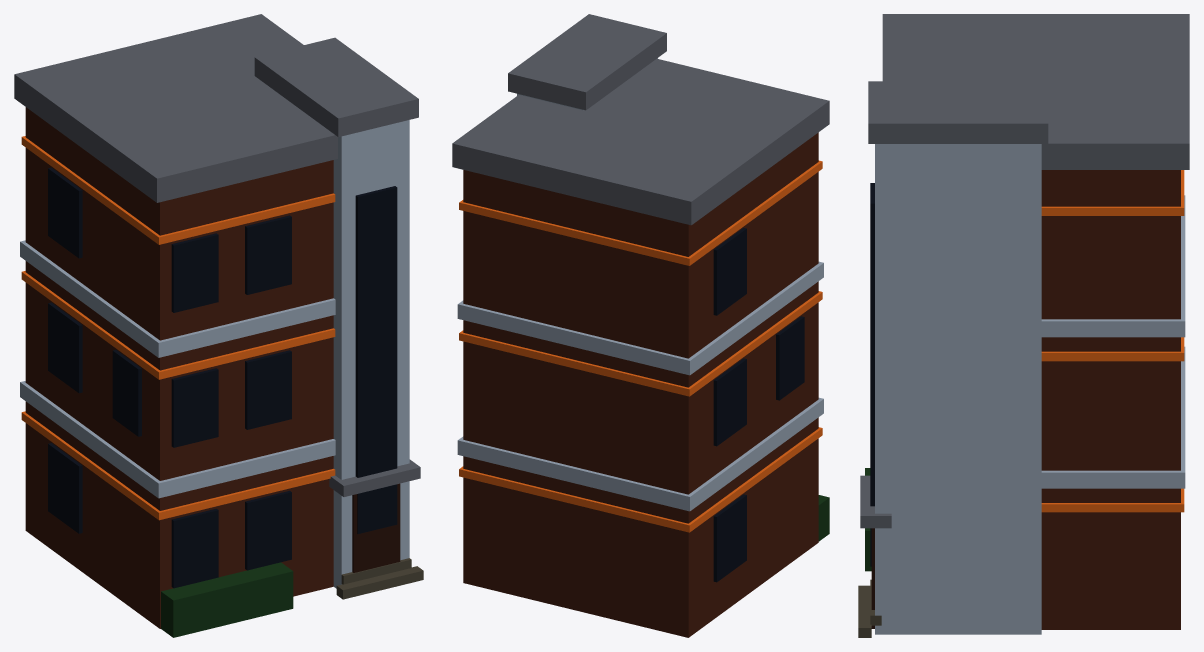
File: walkup1.obj
The picture shows the model from 3 angles, left to right: view 1: azimuth 30°, elevation 25°; view 2: azimuth 150°, elevation 25°; view 3: azimuth 270°, elevation 25°; orthographic projection. The views are drawn at different scales.
Visible parts, largest first — view 1: body, parapet, windows, stair-core, stair-glazing, floor-bands, core-cap, window-lights, hedge, entrance, stoop, entrance-hood; view 2: body, parapet, floor-bands, window-lights, core-cap, windows; view 3: stair-core, body, parapet, core-cap, floor-bands, window-lights, stair-glazing, entrance-hood, stoop.
Boxes of the visible parts, left/top/right/bottom form: body: left=25, top=107, right=333, bottom=628; parapet: left=14, top=14, right=337, bottom=202; windows: left=48, top=167, right=291, bottom=588; stair-core: left=333, top=120, right=409, bottom=588; stair-glazing: left=355, top=186, right=397, bottom=533; floor-bands: left=20, top=240, right=335, bottom=498; core-cap: left=254, top=37, right=418, bottom=136; window-lights: left=21, top=136, right=335, bottom=520; hedge: left=161, top=562, right=293, bottom=637; entrance: left=352, top=483, right=400, bottom=572; stoop: left=336, top=558, right=423, bottom=599; entrance-hood: left=329, top=459, right=420, bottom=496; body: left=463, top=132, right=818, bottom=637; parapet: left=452, top=58, right=829, bottom=225; floor-bands: left=457, top=261, right=823, bottom=511; window-lights: left=459, top=160, right=822, bottom=532; core-cap: left=508, top=14, right=666, bottom=110; windows: left=713, top=227, right=804, bottom=582; stair-core: left=875, top=144, right=1041, bottom=634; body: left=1041, top=170, right=1180, bottom=629; parapet: left=882, top=14, right=1189, bottom=169; core-cap: left=868, top=81, right=1048, bottom=143; floor-bands: left=1041, top=195, right=1185, bottom=488; window-lights: left=1041, top=170, right=1184, bottom=512; stair-glazing: left=870, top=183, right=874, bottom=566; entrance-hood: left=860, top=475, right=891, bottom=528; stoop: left=858, top=579, right=881, bottom=637.
Bounding box in the file's own units: 2.85 × 5.1 × 2.98.
